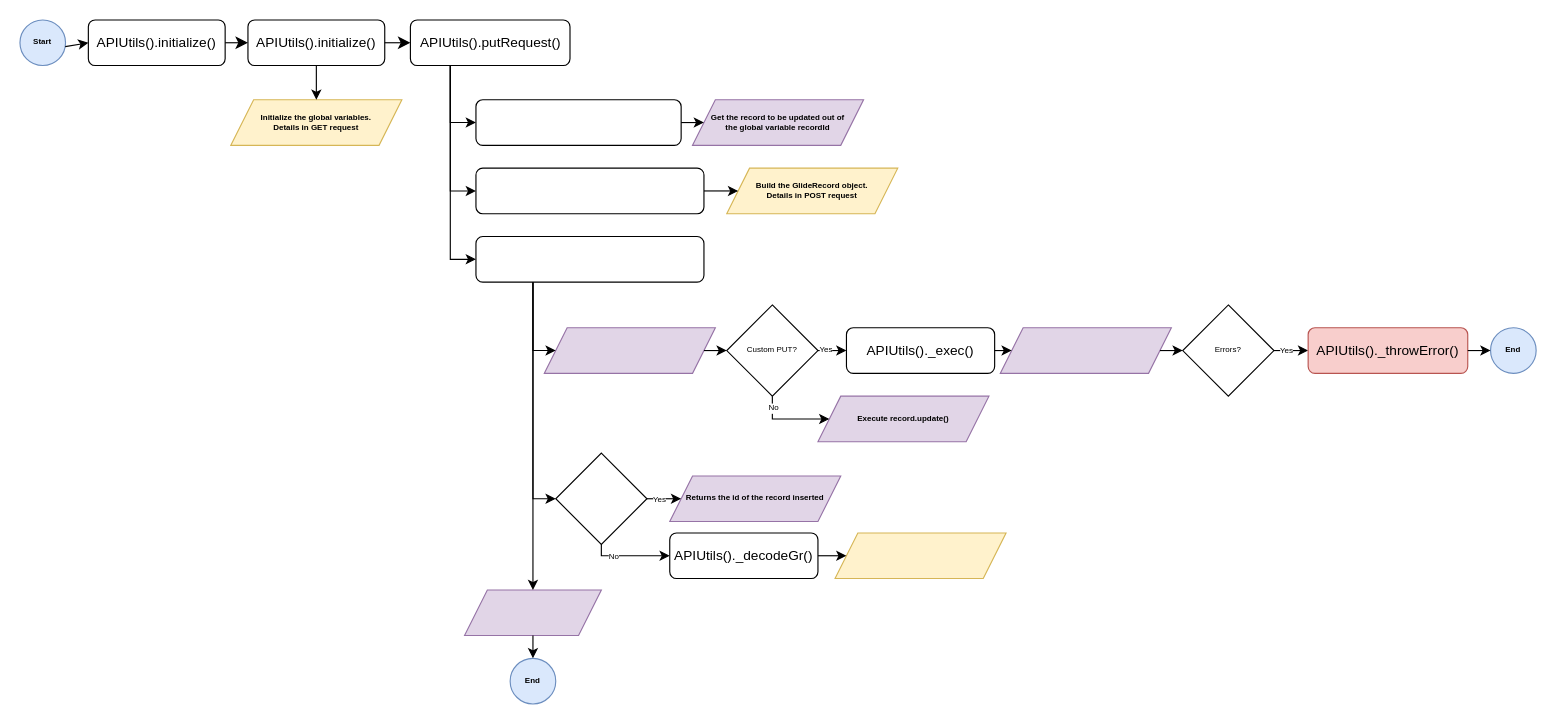
This 1556x724 diagram has some shape labels left out. The box of each missing label's shape, as (x1, y1, x2, y2) in pixels:
APIUtils()._buildGlideRecord(): (475, 167, 704, 214)
APIUtils._updateGlideRecord(): (475, 235, 704, 282)
Custom PUT flag in the table configuration object: (543, 327, 715, 373)
Executes the PUT script added in the table configuration object: (999, 327, 1171, 373)
GlideRecordUtils.getRecord(): (475, 99, 681, 145)
Is recursive call?: (555, 452, 647, 544)
Return an object representing the record updated: (463, 589, 601, 636)
Return an object representing the record. Details in GET request: (834, 532, 1006, 579)
